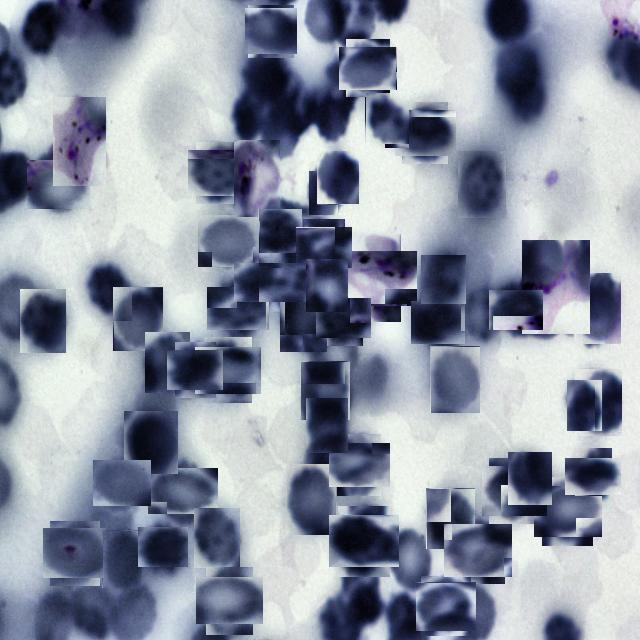red blood cell: (333, 511, 395, 572), (448, 520, 508, 580), (538, 482, 598, 542), (286, 464, 336, 535), (123, 410, 178, 474), (154, 462, 212, 520), (485, 462, 543, 520), (46, 524, 104, 582), (200, 572, 258, 630), (430, 346, 480, 413), (574, 273, 621, 344), (574, 368, 622, 436), (200, 212, 256, 270), (386, 526, 434, 593), (458, 151, 506, 218), (113, 287, 163, 351), (31, 156, 87, 212), (200, 342, 256, 398), (419, 578, 474, 634), (426, 488, 475, 549), (300, 361, 350, 420), (20, 289, 66, 353), (398, 106, 452, 160), (332, 438, 386, 492), (192, 146, 246, 200), (86, 260, 132, 321), (280, 294, 328, 352), (194, 508, 240, 568), (212, 282, 264, 335), (96, 457, 148, 510), (145, 332, 190, 393), (342, 43, 393, 94), (264, 258, 316, 308), (365, 92, 409, 148), (247, 6, 296, 56), (300, 222, 349, 272), (413, 298, 462, 347), (508, 452, 552, 505), (305, 258, 348, 312), (102, 530, 142, 588), (306, 398, 348, 453), (172, 346, 220, 394), (319, 294, 367, 342), (420, 254, 466, 304), (317, 152, 359, 206), (492, 287, 540, 334), (570, 452, 616, 500), (461, 286, 500, 342), (140, 524, 187, 570), (308, 160, 346, 215), (237, 260, 280, 306), (258, 209, 302, 253), (566, 379, 602, 431)
trophozoite: (522, 240, 590, 334), (337, 242, 409, 314), (52, 96, 106, 186), (234, 140, 280, 217)
